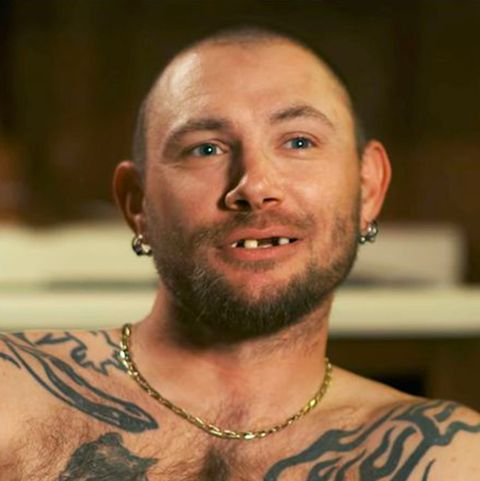bare: (140, 178, 358, 325)
